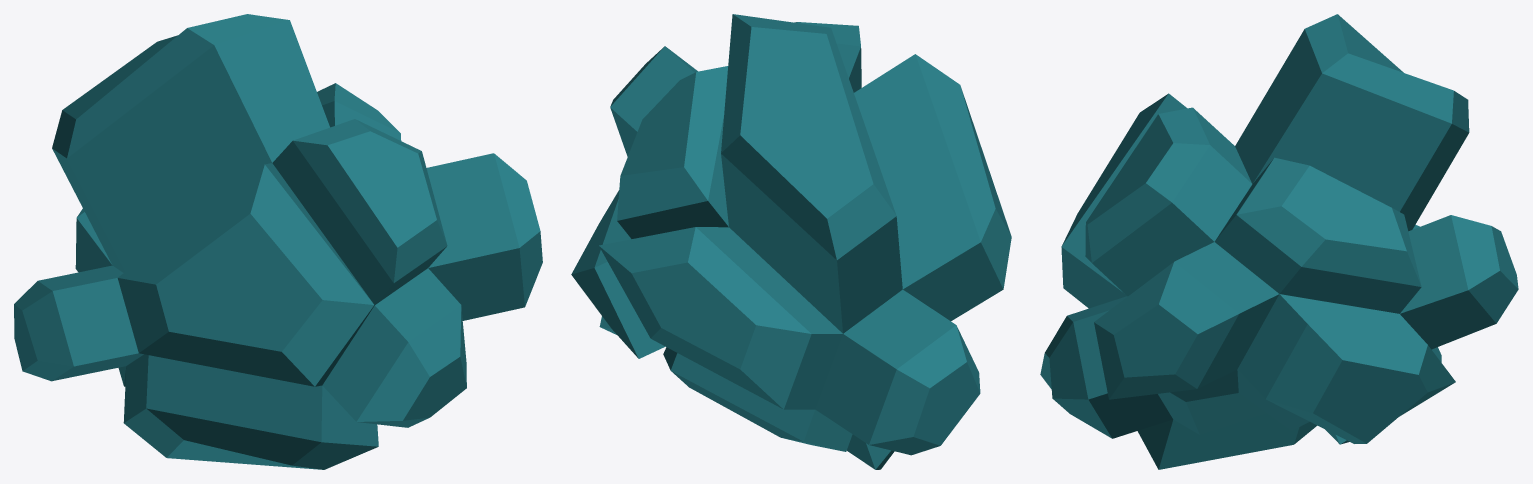
File: Small_iceRock.fbx
The picture shows the model from 3 angles, left to right: view 1: azimuth 30°, elevation 25°; view 2: azimuth 150°, elevation 25°; view 3: azimuth 270°, elevation 25°; orthographic projection. The views are drawn at different scales.
Parts seen in each view (by area): view 1: pSolid1; view 2: pSolid1; view 3: pSolid1.
Boxes of the visible parts, <box> form: pSolid1: <box>14,14,542,469</box>; pSolid1: <box>571,14,1011,469</box>; pSolid1: <box>1040,14,1518,469</box>.
Bounding box in the file's own units: 26.24 × 24.8 × 24.95.
